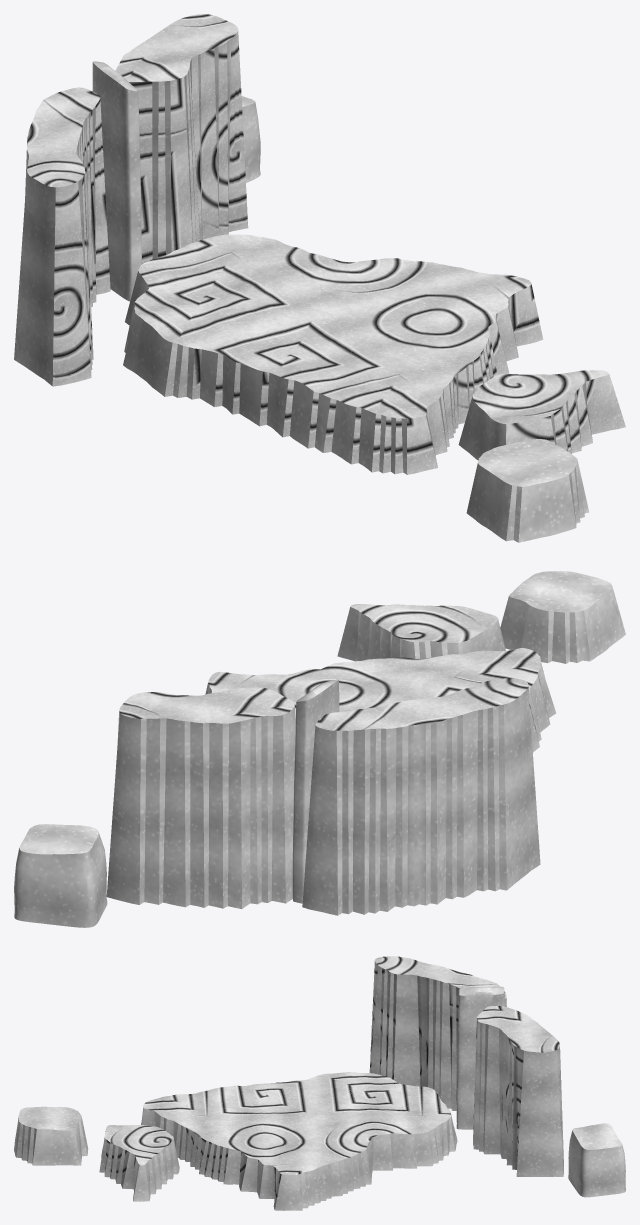
File: CREHenge06.glb
3 renders of one model, top to bottom at view 1: azimuth 30°, elevation 25°; view 2: azimuth 150°, elevation 25°; view 3: azimuth 270°, elevation 25°, orthographic. The views are drawn at different scales.
Visible parts, largest first — view 1: CREHenge06_tops; view 2: CREHenge06_tops; view 3: CREHenge06_tops.
Boxes of the visible parts, x1=… form: CREHenge06_tops: x1=14, y1=14, x2=625, y2=542; CREHenge06_tops: x1=14, y1=571, x2=625, y2=927; CREHenge06_tops: x1=14, y1=956, x2=625, y2=1210.
Bounding box in the file's own units: 3.44 × 1.69 × 6.77.
2 materials, 2 textured.
